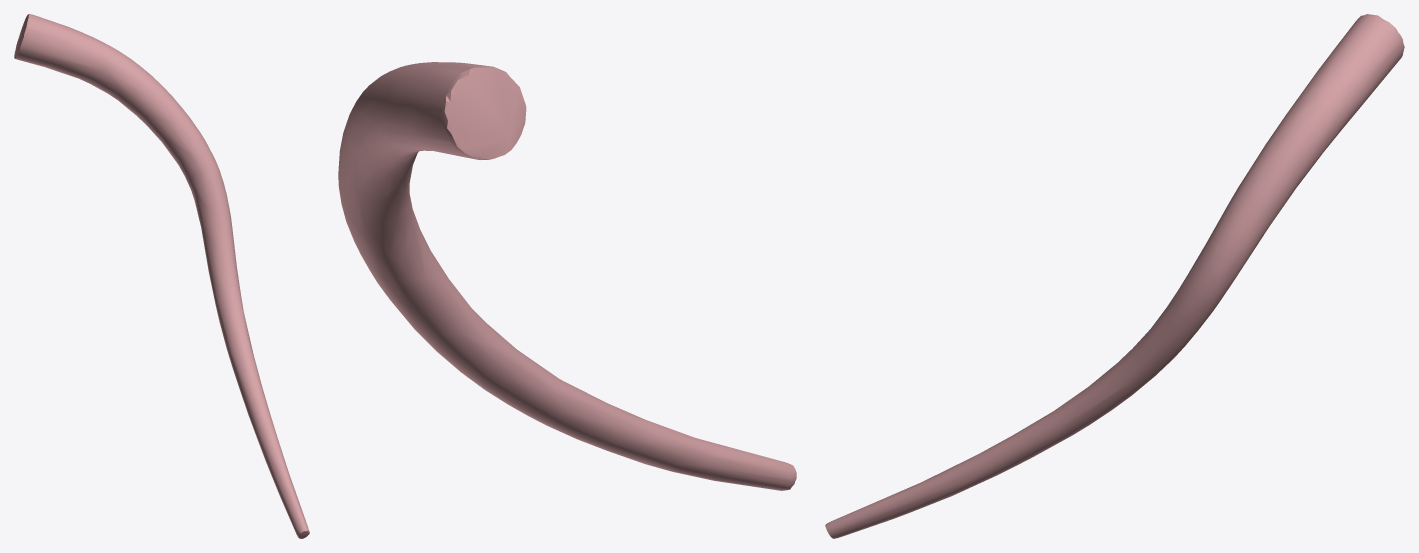
Rendered from fma68227_fj6488.glb.
3 views of the same model, side by side, from view 1: azimuth 30°, elevation 25°; view 2: azimuth 150°, elevation 25°; view 3: azimuth 270°, elevation 25° (orthographic). The views are drawn at different scales.
Visible parts, largest first — view 1: FMA68227_FJ6488; view 2: FMA68227_FJ6488; view 3: FMA68227_FJ6488.
Part boxes in pixels (x1,y1,x2,y2): FMA68227_FJ6488: (14, 14, 309, 538); FMA68227_FJ6488: (338, 62, 796, 490); FMA68227_FJ6488: (825, 14, 1404, 538).
Bounding box in the file's own units: 0.0382 × 0.0963 × 0.1041.
